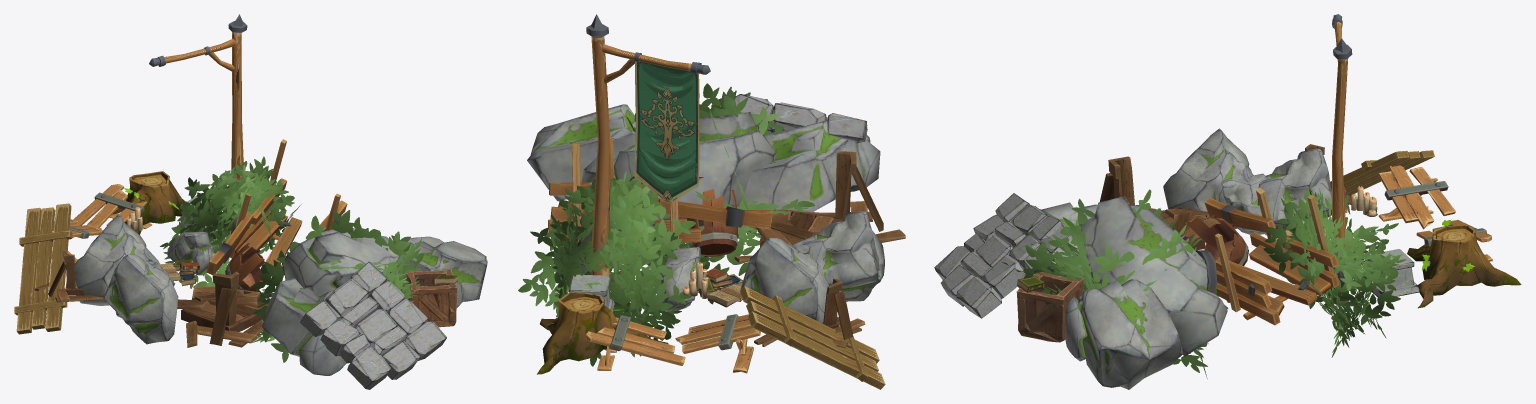
The model's file is MainCityDecor_Guild_Ruins.glb.
3 views of the same model, side by side, from view 1: azimuth 30°, elevation 25°; view 2: azimuth 150°, elevation 25°; view 3: azimuth 270°, elevation 25° (orthographic). The views are drawn at different scales.
Visible parts, largest first — view 1: EnvCampsite_Detail__Brickwall__2_2__un4288398218363764322, EnvDetail__Bush___20_17__u7852480037073420702, SM_Gray_Stone_Small_01_LOD0_1__u5852771850674667934, EnvCampsite_Detail__Box___3__un8694790639485419106, SM_Gray_Stone_Small_02_LOD0__u4389314204825649566, EnvDetail__Bush___20_18__un4028888715547541090, SM_Gray_Stone_Small_03_LOD0__un4096544826055163490, EnvCampsite_Detail__Cart__1__u8749863347624313246, SM_Gray_Stone_Small_01_LOD0_2__un7713948338152177250, SM_Gray_Stone_Small_03_LOD0_1__un4637277586889080418, EnvCampsite_Detail__flag__1__un8758192163054255714, EnvCampsite_Detail__Stump__2__un8127348477986438754 (+9 smaller); view 2: EnvDetail__Bush___20_17__u7852480037073420702, EnvCampsite_Detail__flag__1__un8758192163054255714, SM_Gray_Stone_Small_03_LOD0__un4096544826055163490, SM_Gray_Stone_Small_02_LOD0__u4389314204825649566, EnvCampsite_Detail__Table__2__u3736774481560306078, SM_Gray_Stone_Small_01_LOD0_1__u5852771850674667934, SM_Gray_Stone_Small_01_LOD0_2__un7713948338152177250, SM_Gray_Stone_Small_03_LOD0_1__un4637277586889080418, EnvCampsite_Detail__Box___3__un8694790639485419106, EnvCampsite_Detail__Cart__1__u8749863347624313246, EnvCampsite_Detail__Stump__2__un8127348477986438754, EnvDetail__Bush___20_18__un4028888715547541090 (+11 smaller); view 3: SM_Gray_Stone_Small_02_LOD0__u4389314204825649566, EnvDetail__Bush___20_17__u7852480037073420702, SM_Gray_Stone_Small_03_LOD0_1__un4637277586889080418, EnvCampsite_Detail__Cart__1__u8749863347624313246, EnvCampsite_Detail__Brickwall__2_2__un4288398218363764322, EnvDetail__Bush___20_18__un4028888715547541090, EnvCampsite_Detail__Stump__2__un8127348477986438754, SM_Gray_Stone_Small_01_LOD0_1__u5852771850674667934, EnvCampsite_Detail__Table__2__u3736774481560306078, SM_Gray_Stone_Small_01_LOD0_2__un7713948338152177250, EnvCampsite_Detail__Box__4__u4136321202880926, EnvCampsite_Detail__flag__1__un8758192163054255714 (+6 smaller).
Boxes of the visible parts, x1,y1,x2,y2 form: EnvCampsite_Detail__Brickwall__2_2__un4288398218363764322: (300, 261, 446, 389); EnvDetail__Bush___20_17__u7852480037073420702: (160, 156, 301, 288); SM_Gray_Stone_Small_01_LOD0_1__u5852771850674667934: (103, 254, 178, 344); EnvCampsite_Detail__Box___3__un8694790639485419106: (177, 271, 268, 347); SM_Gray_Stone_Small_02_LOD0__u4389314204825649566: (283, 228, 404, 295); EnvDetail__Bush___20_18__un4028888715547541090: (243, 209, 427, 362); SM_Gray_Stone_Small_03_LOD0__un4096544826055163490: (262, 278, 346, 375); EnvCampsite_Detail__Cart__1__u8749863347624313246: (206, 139, 347, 274); SM_Gray_Stone_Small_01_LOD0_2__un7713948338152177250: (74, 214, 162, 305); SM_Gray_Stone_Small_03_LOD0_1__un4637277586889080418: (398, 236, 487, 307); EnvCampsite_Detail__flag__1__un8758192163054255714: (149, 14, 247, 235); EnvCampsite_Detail__Stump__2__un8127348477986438754: (122, 171, 185, 234); EnvDetail__Bush___20_17__u7852480037073420702: (518, 171, 706, 366); EnvCampsite_Detail__flag__1__un8758192163054255714: (586, 14, 710, 275); SM_Gray_Stone_Small_03_LOD0__un4096544826055163490: (739, 119, 880, 227); SM_Gray_Stone_Small_02_LOD0__u4389314204825649566: (581, 112, 775, 226); EnvCampsite_Detail__Table__2__u3736774481560306078: (585, 314, 760, 373); SM_Gray_Stone_Small_01_LOD0_1__u5852771850674667934: (801, 211, 884, 301); SM_Gray_Stone_Small_01_LOD0_2__un7713948338152177250: (740, 237, 829, 322); SM_Gray_Stone_Small_03_LOD0_1__un4637277586889080418: (527, 104, 635, 201); EnvCampsite_Detail__Box___3__un8694790639485419106: (734, 151, 905, 262); EnvCampsite_Detail__Cart__1__u8749863347624313246: (548, 136, 772, 281); EnvCampsite_Detail__Stump__2__un8127348477986438754: (537, 292, 668, 374); EnvDetail__Bush___20_18__un4028888715547541090: (613, 83, 814, 304); SM_Gray_Stone_Small_02_LOD0__u4389314204825649566: (1079, 196, 1227, 356); EnvDetail__Bush___20_17__u7852480037073420702: (1263, 185, 1406, 357); SM_Gray_Stone_Small_03_LOD0_1__un4637277586889080418: (1065, 279, 1182, 389); EnvCampsite_Detail__Cart__1__u8749863347624313246: (1196, 187, 1345, 325); EnvCampsite_Detail__Brickwall__2_2__un4288398218363764322: (934, 193, 1069, 318); EnvDetail__Bush___20_18__un4028888715547541090: (1001, 189, 1229, 378); EnvCampsite_Detail__Stump__2__un8127348477986438754: (1407, 219, 1521, 308); SM_Gray_Stone_Small_01_LOD0_1__u5852771850674667934: (1163, 128, 1253, 229); EnvCampsite_Detail__Table__2__u3736774481560306078: (1378, 165, 1492, 261); SM_Gray_Stone_Small_01_LOD0_2__un7713948338152177250: (1257, 148, 1331, 235); EnvCampsite_Detail__Box__4__u4136321202880926: (1016, 272, 1083, 342); EnvCampsite_Detail__flag__1__un8758192163054255714: (1332, 14, 1352, 304).
Bounding box in the file's own units: 7.46 × 5.46 × 8.9.
Materials: 17 (17 with a texture image).
